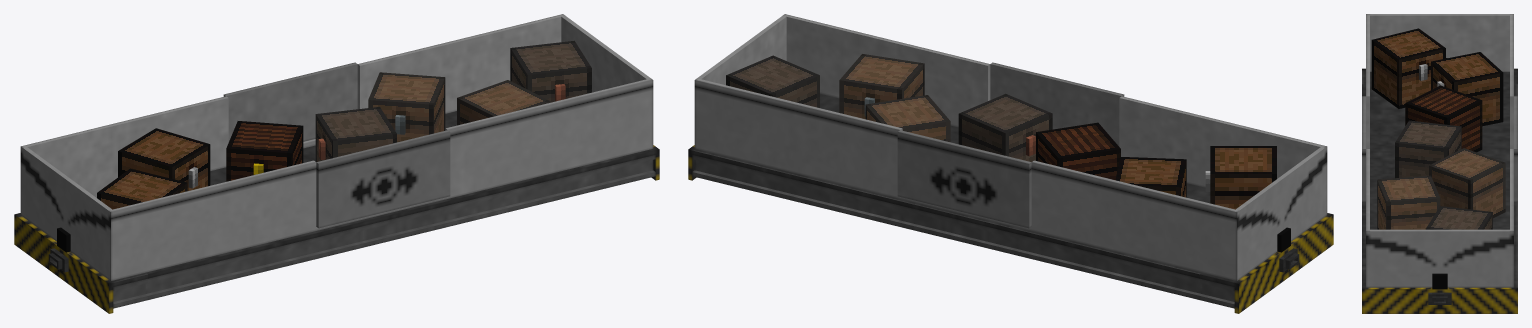
Rendered from kitsune_elysia_mk2_javelin_goods.obj.
3 renders of one model, left to right at view 1: azimuth 30°, elevation 25°; view 2: azimuth 150°, elevation 25°; view 3: azimuth 270°, elevation 25°, orthographic. The views are drawn at different scales.
Parts seen in each view (by area): view 1: FRAME_0_body, FRAME_2, FRAME_1, FRAME_3, DOOR_5_TL_-1_X_CG_doorleft, DOOR_6_TL_1_X_CG_doorleft, CARGO_FILL_14, FRAME_end1, CARGO_FILL_70, CARGO_FILL_56, CARGO_FILL_42, CARGO_FILL_1 (+5 smaller); view 2: FRAME_0_body, FRAME_3, FRAME_1, DOOR_3_TL_-1_X_CG_doorright, DOOR_4_TL_1_X_CG_doorright, FRAME_2, CARGO_FILL_1, FRAME_end1, CARGO_FILL_84, CARGO_FILL_28, CARGO_FILL_42, CARGO_FILL_70 (+5 smaller); view 3: FRAME_0_body, CARGO_FILL_28, FRAME_end2, CARGO_FILL_14, CARGO_FILL_56, CARGO_FILL_84, CARGO_FILL_42, CARGO_FILL_1, FRAME_1, FRAME_2, CARGO_FILL_70, FRAME_3 (+5 smaller).
Part boxes in pixels (x1,y1,x2,y2): FRAME_0_body: [20, 14, 653, 280]; FRAME_2: [216, 145, 462, 261]; FRAME_1: [145, 170, 306, 299]; FRAME_3: [445, 111, 620, 223]; DOOR_5_TL_-1_X_CG_doorleft: [316, 146, 384, 228]; DOOR_6_TL_1_X_CG_doorleft: [382, 130, 450, 212]; CARGO_FILL_14: [368, 72, 445, 142]; FRAME_end1: [14, 213, 147, 313]; CARGO_FILL_70: [510, 40, 591, 102]; CARGO_FILL_56: [118, 128, 210, 190]; CARGO_FILL_42: [226, 121, 303, 181]; CARGO_FILL_1: [315, 107, 396, 161]; FRAME_0_body: [694, 14, 1327, 280]; FRAME_3: [727, 93, 958, 223]; FRAME_1: [1041, 183, 1210, 299]; DOOR_3_TL_-1_X_CG_doorright: [963, 146, 1031, 228]; DOOR_4_TL_1_X_CG_doorright: [897, 130, 965, 212]; FRAME_2: [885, 196, 1043, 261]; CARGO_FILL_1: [958, 93, 1052, 161]; FRAME_end1: [1200, 213, 1333, 313]; CARGO_FILL_84: [839, 54, 924, 119]; CARGO_FILL_28: [1205, 146, 1276, 209]; CARGO_FILL_42: [1036, 122, 1120, 180]; CARGO_FILL_70: [726, 55, 819, 107]; FRAME_0_body: [1366, 14, 1513, 287]; CARGO_FILL_28: [1371, 28, 1445, 108]; FRAME_end2: [1362, 273, 1517, 313]; CARGO_FILL_14: [1429, 148, 1505, 218]; CARGO_FILL_56: [1431, 52, 1503, 126]; CARGO_FILL_84: [1377, 175, 1440, 229]; CARGO_FILL_42: [1405, 85, 1482, 152]; CARGO_FILL_1: [1395, 120, 1461, 178]; FRAME_1: [1362, 84, 1517, 147]; FRAME_2: [1362, 147, 1517, 210]; CARGO_FILL_70: [1426, 206, 1492, 229]; FRAME_3: [1362, 210, 1517, 273].
Bounding box in the file's own units: 8.62 × 1.56 × 2.5.
Materials: 6 (6 with a texture image).
